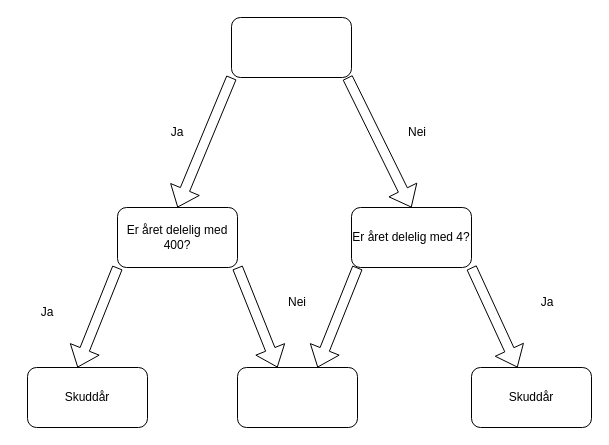
Image size: 609x445. Some labels were removed from this diagram. Each missing label, with the box of its shape:
Er året et hundreår?: (230, 16, 352, 78)
Ikke et skuddår: (236, 366, 358, 428)
